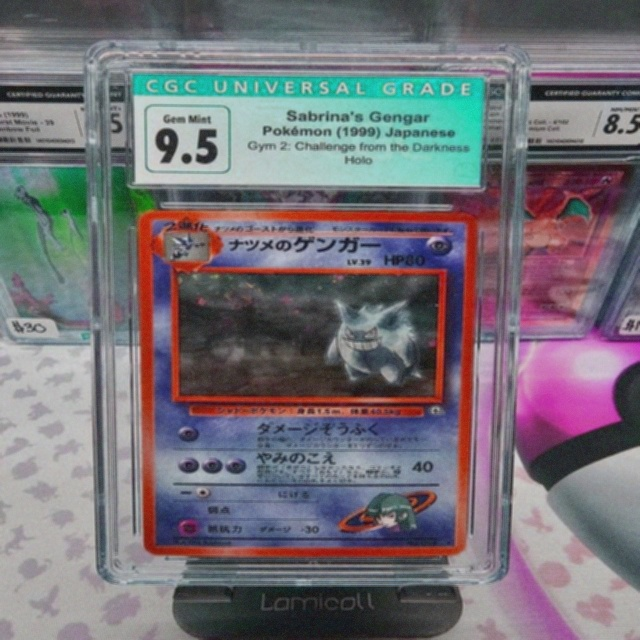card: (135, 209, 480, 557)
